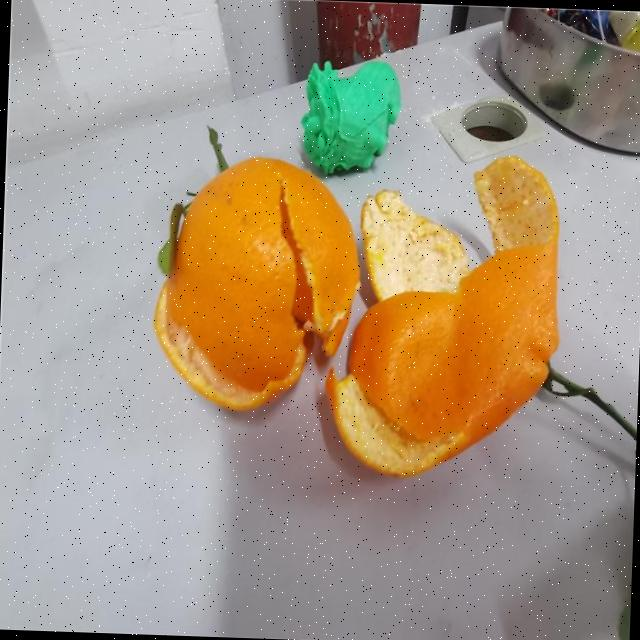orange-peel: (321, 230, 562, 482), (150, 150, 365, 414)
